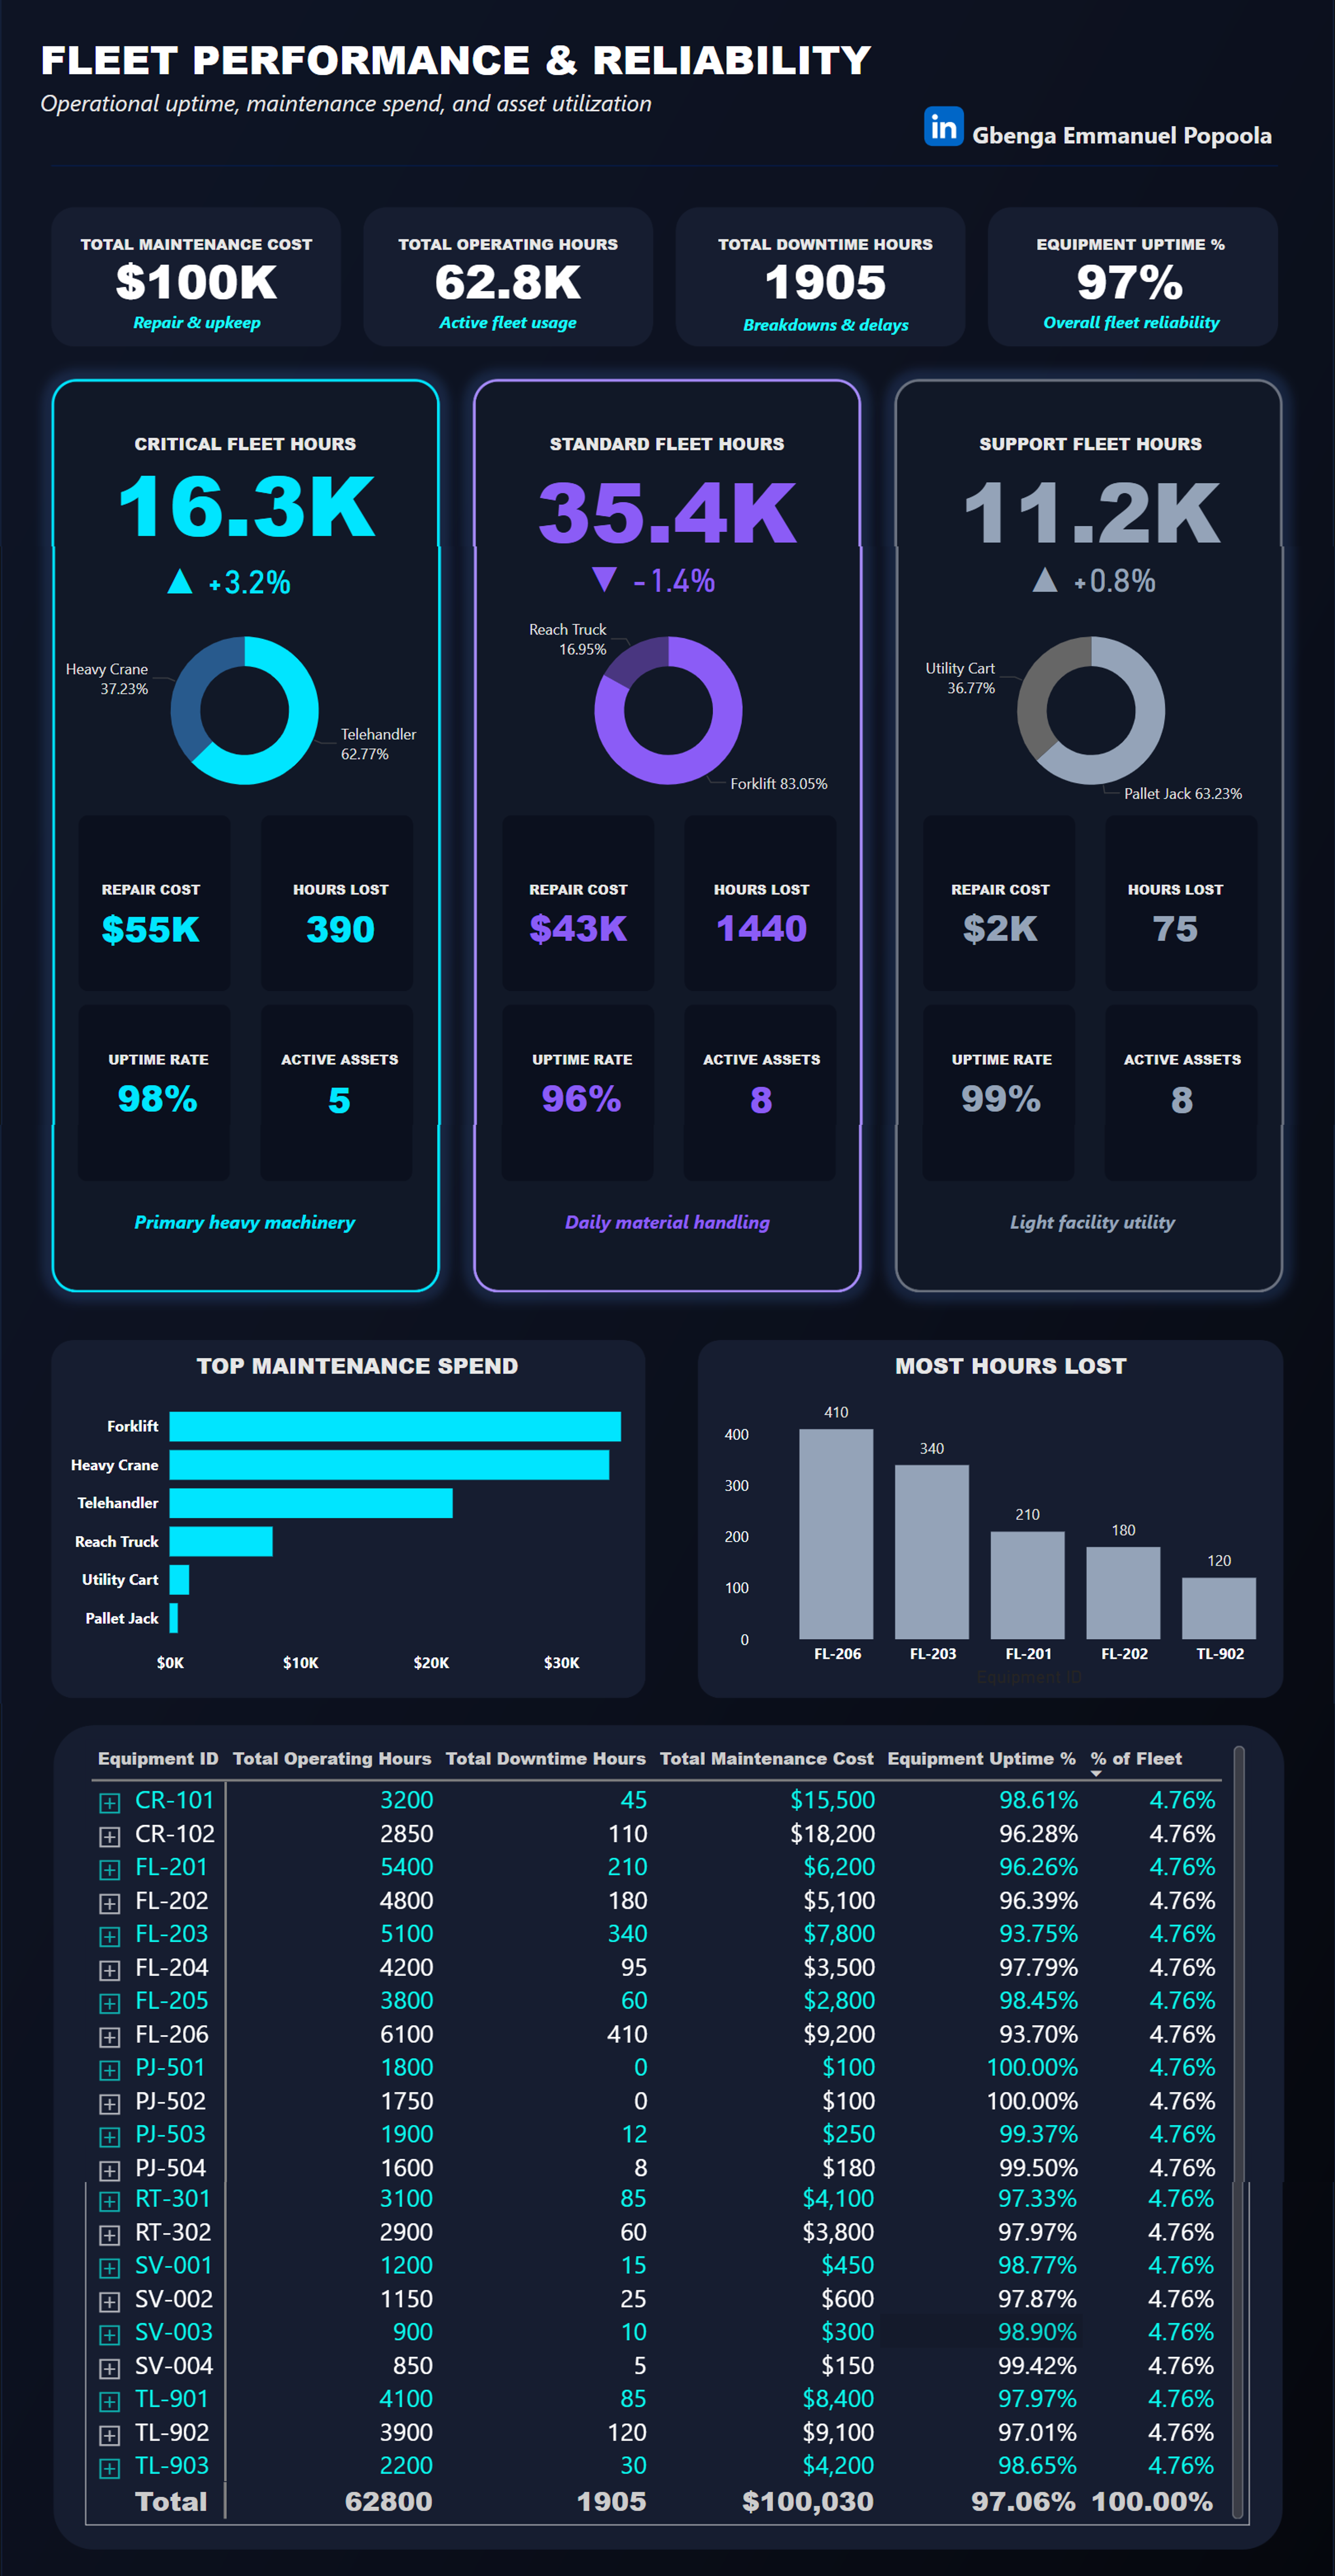

Layout of this report page (visuals, bound fields, positions):
{"tool":"powerbi","page":{"name":"Page 1","canvas":[1080,2000],"ordinal":0},"visuals":[{"type":"card","title":"TOTAL MAINTENANCE COST","fields":{"Values":["Table1.Total Maintenance Cost"]},"box":[57,211,205,59],"z":0},{"type":"card","title":"TOTAL OPERATING HOURS","fields":{"Values":["Table1.Total Operating Hours"]},"box":[313,210.6,196.6,59.3],"z":1000},{"type":"card","title":"TOTAL DOWNTIME HOURS","fields":{"Values":["Table1.Total Downtime Hours"]},"box":[569,211,198,59],"z":2000},{"type":"card","title":"EQUIPMENT UPTIME %","fields":{"Values":["Table1.Equipment Uptime %"]},"box":[816,211,198,59],"z":3000},{"type":"textbox","box":[98,268,124,52],"z":4000},{"type":"textbox","box":[331.6,268.2,159.3,50.8],"z":5000},{"type":"textbox","box":[587.6,269.9,161,45.8],"z":6000},{"type":"textbox","box":[835,268.2,161,45.8],"z":7000},{"type":"card","title":"CRITICAL FLEET HOURS","fields":{"Values":["Table1.Total Operating Hours"]},"box":[68.3,371.7,261.7,90],"z":8000},{"type":"card","title":"STANDARD FLEET HOURS","fields":{"Values":["Table1.Total Operating Hours"]},"box":[408.3,371.7,263.3,100],"z":9000},{"type":"card","title":"SUPPORT FLEET HOURS","fields":{"Values":["Table1.Total Operating Hours"]},"box":[751.7,371.7,261.7,100],"z":10000},{"type":"card","title":"REPAIR COST","fields":{"Values":["Table1.Total Maintenance Cost"]},"box":[61,740,122,64],"z":11000},{"type":"card","title":"HOURS LOST","fields":{"Values":["Table1.Total Downtime Hours"]},"box":[219,740,113,64],"z":12000},{"type":"card","title":"UPTIME RATE","fields":{"Values":["Table1.Equipment Uptime %"]},"box":[65,877,126,63],"z":13000},{"type":"card","title":"ACTIVE ASSETS","fields":{"Values":["Table1.Fleet Size"]},"box":[219,877,111,66],"z":14000},{"type":"card","title":"REPAIR COST","fields":{"Values":["Table1.Total Maintenance Cost"]},"box":[411,740,113,63],"z":15000},{"type":"card","title":"HOURS LOST","fields":{"Values":["Table1.Total Downtime Hours"]},"box":[560,740,111,63],"z":16000},{"type":"card","title":"UPTIME RATE","fields":{"Values":["Table1.Equipment Uptime %"]},"box":[414,877,113,63],"z":17000},{"type":"card","title":"ACTIVE ASSETS","fields":{"Values":["Table1.Fleet Size"]},"box":[560,877,111,66],"z":18000},{"type":"card","title":"REPAIR COST","fields":{"Values":["Table1.Total Maintenance Cost"]},"box":[752,740,113,63],"z":19000},{"type":"card","title":"HOURS LOST","fields":{"Values":["Table1.Total Downtime Hours"]},"box":[900,740,100,63],"z":20000},{"type":"card","title":"UPTIME RATE","fields":{"Values":["Table1.Equipment Uptime %"]},"box":[754,877,111,63],"z":21000},{"type":"card","title":"ACTIVE ASSETS","fields":{"Values":["Table1.Fleet Size"]},"box":[900,877,111,66],"z":22000},{"type":"clusteredBarChart","title":"TOP MAINTENANCE SPEND","fields":{"Category":["Table1.Equipment_Type"],"Y":["Table1.Total Maintenance Cost"]},"box":[52.2,1118.9,474.4,271.1],"z":23000},{"type":"clusteredColumnChart","title":"MOST HOURS LOST","fields":{"Category":["Table1.Equipment_ID"],"Y":["Table1.Total Downtime Hours"]},"box":[581.1,1118.9,473.3,276.7],"z":24000},{"type":"pivotTable","fields":{"Rows":["Table1.Equipment_ID","Table1.Asset_Class"],"Values":["Table1.Total Operating Hours","Table1.Total Downtime Hours","Table1.Total Maintenance Cost","Table1.Equipment Uptime %","Table1.% of Fleet"]},"box":[68.9,1441.1,942.2,503.3],"z":25000},{"type":"textbox","box":[96.7,1000,203.3,41.7],"z":26000},{"type":"textbox","box":[438.3,1000,203.3,41.7],"z":27000},{"type":"textbox","box":[781.7,1000,203.3,41.7],"z":28000},{"type":"card","fields":{"Values":["Table1.Trend Critical"]},"box":[116.7,475,133.3,45],"z":29000},{"type":"card","fields":{"Values":["Table1.Trend Standard"]},"box":[458.3,473.3,136.7,46.7],"z":30000},{"type":"card","fields":{"Values":["Table1.Trend Support"]},"box":[815,473.3,135,46.7],"z":31000},{"type":"image","box":[728,98,72,53],"z":32000},{"type":"textbox","box":[782,113,257,38],"z":33000},{"type":"textbox","box":[27.8,42.2,710,90],"z":34000},{"type":"donutChart","fields":{"Category":["Table1.Equipment_Type"],"Y":["Sum(Table1.Operating_Hours)"]},"box":[44.4,520,307.8,165.6],"z":35000},{"type":"donutChart","fields":{"Category":["Table1.Equipment_Type"],"Y":["Table1.Total Operating Hours"]},"box":[386.7,520,307.8,165.6],"z":36000},{"type":"donutChart","fields":{"Category":["Table1.Equipment_Type"],"Y":["Table1.Total Operating Hours"]},"box":[727.8,520,307.8,165.6],"z":37000}]}

Visuals, with their boxes on the page's 1080x2000 design canvas (x1, y1, x2, y2). These are canvas units, not pixel positions in the 1335x2576 screenshot, which may show the page scaled, cropped or inside an application window:
"TOTAL MAINTENANCE COST" card: bbox(57, 211, 262, 270)
"TOTAL OPERATING HOURS" card: bbox(313, 211, 510, 270)
"TOTAL DOWNTIME HOURS" card: bbox(569, 211, 767, 270)
"EQUIPMENT UPTIME %" card: bbox(816, 211, 1014, 270)
textbox: bbox(98, 268, 222, 320)
textbox: bbox(332, 268, 491, 319)
textbox: bbox(588, 270, 749, 316)
textbox: bbox(835, 268, 996, 314)
"CRITICAL FLEET HOURS" card: bbox(68, 372, 330, 462)
"STANDARD FLEET HOURS" card: bbox(408, 372, 672, 472)
"SUPPORT FLEET HOURS" card: bbox(752, 372, 1013, 472)
"REPAIR COST" card: bbox(61, 740, 183, 804)
"HOURS LOST" card: bbox(219, 740, 332, 804)
"UPTIME RATE" card: bbox(65, 877, 191, 940)
"ACTIVE ASSETS" card: bbox(219, 877, 330, 943)
"REPAIR COST" card: bbox(411, 740, 524, 803)
"HOURS LOST" card: bbox(560, 740, 671, 803)
"UPTIME RATE" card: bbox(414, 877, 527, 940)
"ACTIVE ASSETS" card: bbox(560, 877, 671, 943)
"REPAIR COST" card: bbox(752, 740, 865, 803)
"HOURS LOST" card: bbox(900, 740, 1000, 803)
"UPTIME RATE" card: bbox(754, 877, 865, 940)
"ACTIVE ASSETS" card: bbox(900, 877, 1011, 943)
"TOP MAINTENANCE SPEND" clusteredBarChart: bbox(52, 1119, 527, 1390)
"MOST HOURS LOST" clusteredColumnChart: bbox(581, 1119, 1054, 1396)
pivotTable - Table1.Equipment_ID x Table1.Asset_Class: bbox(69, 1441, 1011, 1944)
textbox: bbox(97, 1000, 300, 1042)
textbox: bbox(438, 1000, 642, 1042)
textbox: bbox(782, 1000, 985, 1042)
card - Table1.Trend Critical: bbox(117, 475, 250, 520)
card - Table1.Trend Standard: bbox(458, 473, 595, 520)
card - Table1.Trend Support: bbox(815, 473, 950, 520)
image: bbox(728, 98, 800, 151)
textbox: bbox(782, 113, 1039, 151)
textbox: bbox(28, 42, 738, 132)
donutChart - Table1.Equipment_Type x Sum(Table1.Operating_Hours): bbox(44, 520, 352, 686)
donutChart - Table1.Equipment_Type x Table1.Total Operating Hours: bbox(387, 520, 694, 686)
donutChart - Table1.Equipment_Type x Table1.Total Operating Hours: bbox(728, 520, 1036, 686)
